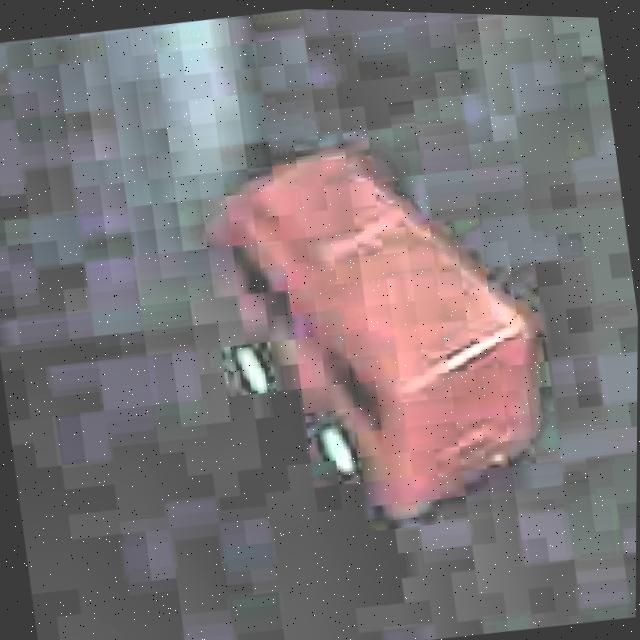bus: (185, 106, 574, 556)
